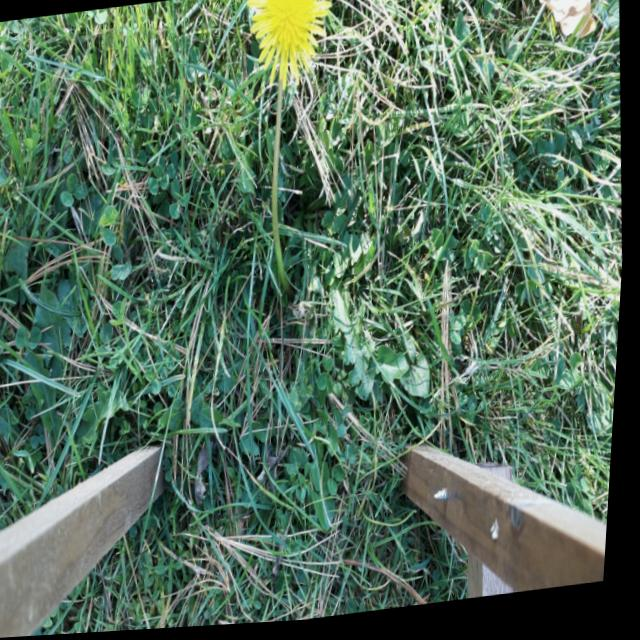base: (280, 275, 308, 319)
